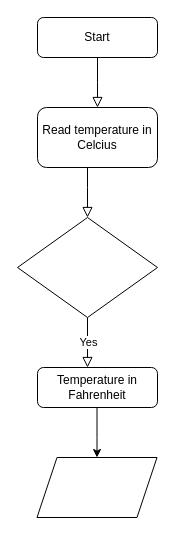
This 175x535 diagram has some shape labels left out. The shapes that lost their labels are listed below. From the top down, each one's centre as x and y in pixels, then its label:
At (87,267): "Fahrenheit value=(9/5*Celcius)+32".
At (96,487): "End".
